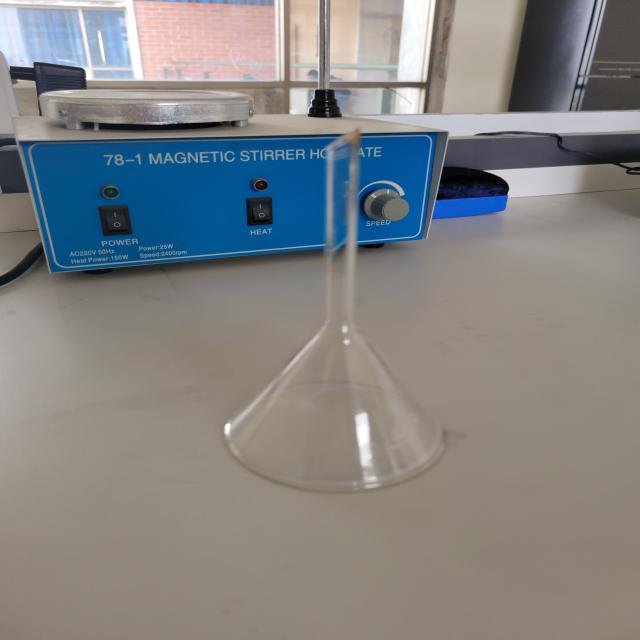Funnel: (182, 116, 502, 511)
